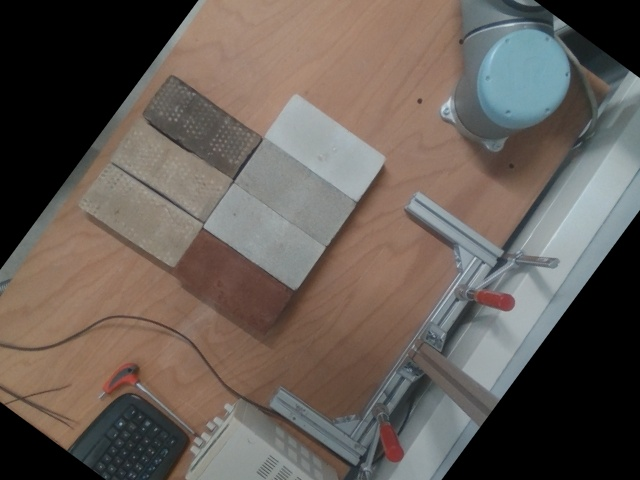brick: (79, 162, 202, 270), (232, 139, 356, 246), (203, 184, 324, 292), (265, 95, 385, 200), (111, 119, 231, 223), (141, 75, 260, 179), (174, 231, 291, 332)
